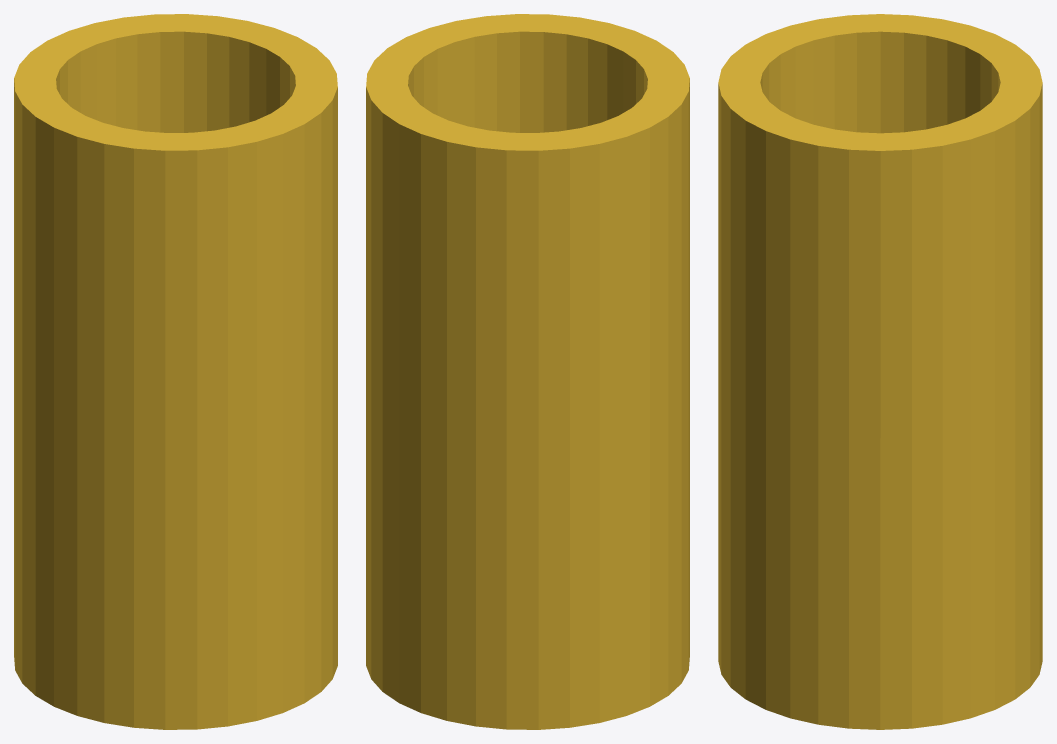
Rendered from copper_pillar.fbx.
3 views of the same model, side by side, from view 1: azimuth 30°, elevation 25°; view 2: azimuth 150°, elevation 25°; view 3: azimuth 270°, elevation 25° (orthographic).
Visible parts, largest first — view 1: 圓柱體; view 2: 圓柱體; view 3: 圓柱體.
Part boxes in pixels (bbox=[...]): 圓柱體: bbox=[14, 14, 337, 729]; 圓柱體: bbox=[366, 14, 689, 729]; 圓柱體: bbox=[718, 14, 1042, 729].
Size of the model in its own units: 200 by 394 by 200.
